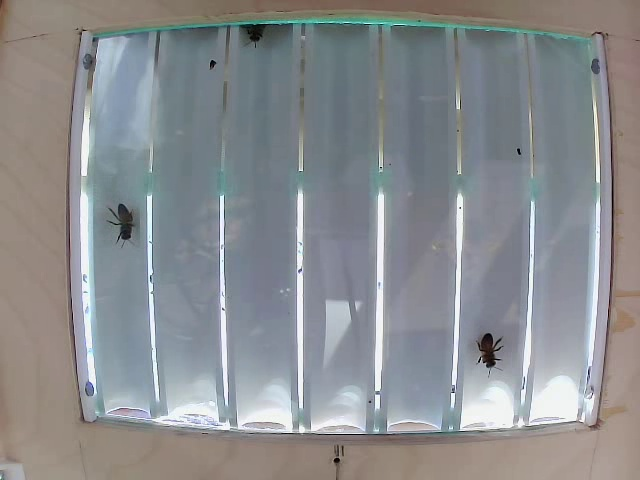bee: (473, 320, 517, 384), (108, 188, 146, 246)
